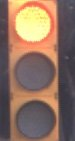Red: (4, 1, 70, 141)
